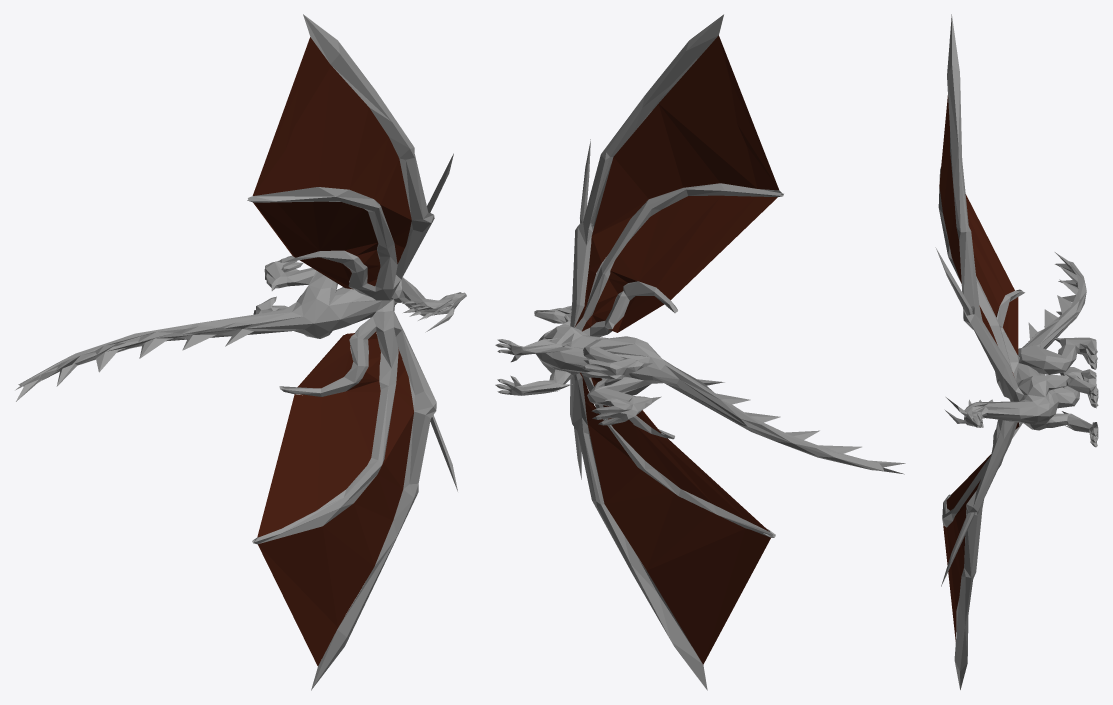
Rendered from Dragon_2.5_For_Animations_000266.obj.
The picture shows the model from 3 angles, left to right: view 1: azimuth 30°, elevation 25°; view 2: azimuth 150°, elevation 25°; view 3: azimuth 270°, elevation 25°; orthographic projection.
Visible parts, largest first — view 1: Cube_Cube.004; view 2: Cube_Cube.004; view 3: Cube_Cube.004.
Part boxes in pixels (<box>): Cube_Cube.004: <box>15,14,466,690</box>; Cube_Cube.004: <box>495,14,905,690</box>; Cube_Cube.004: <box>935,14,1098,689</box>.
Bounding box in the file's own units: 96.7 × 152 × 33.62.
